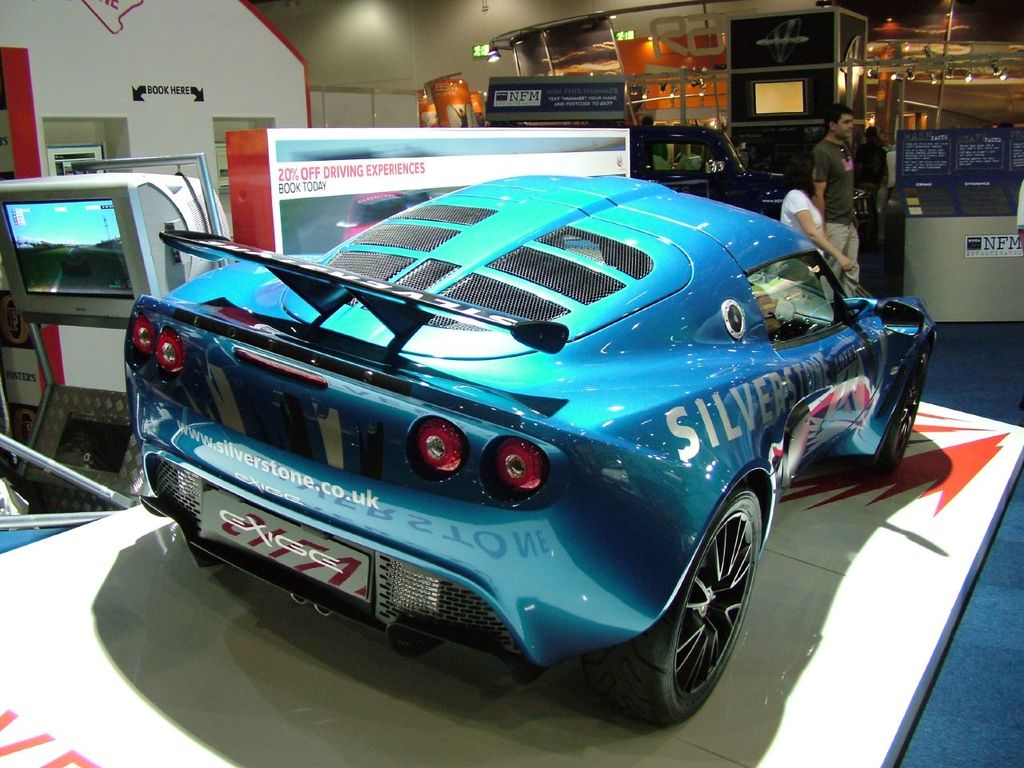Car: (123, 174, 935, 728), (629, 125, 878, 254)
